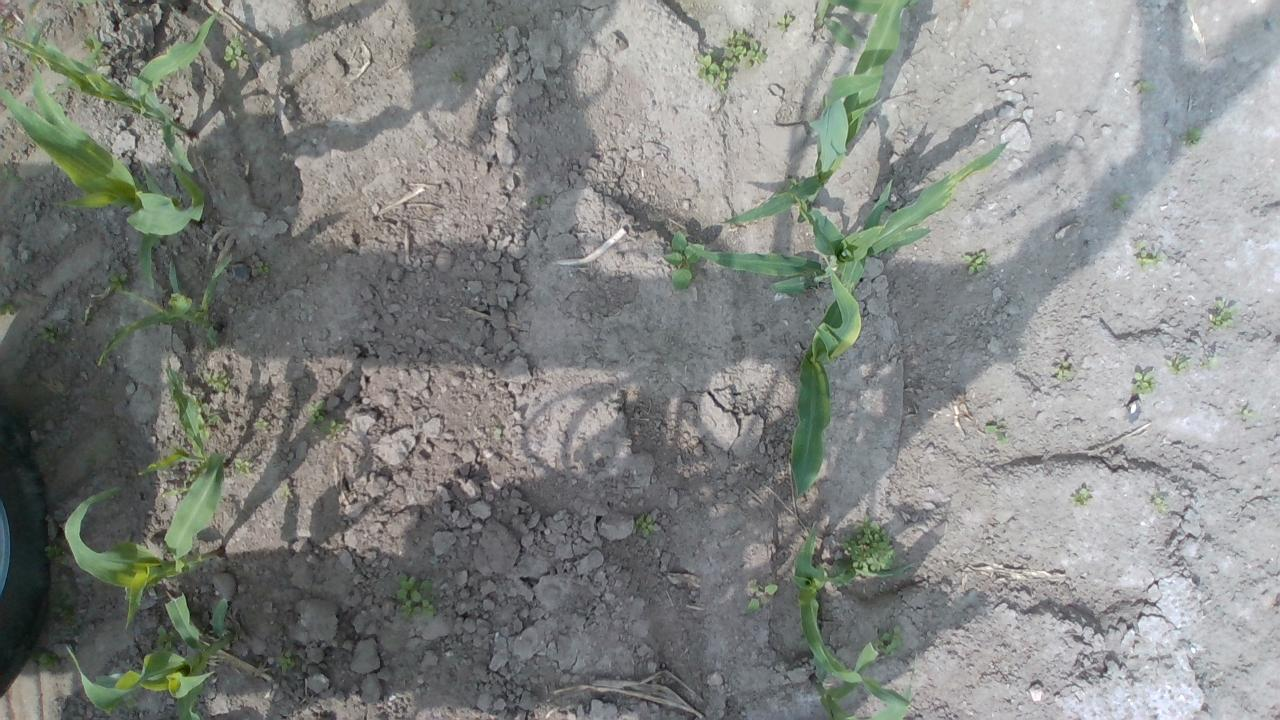Maize: (0, 20, 206, 286), (689, 139, 1008, 294), (723, 0, 916, 222), (784, 174, 898, 496), (0, 10, 218, 172), (62, 454, 222, 626), (787, 519, 913, 709), (67, 594, 232, 720), (93, 254, 235, 364), (136, 357, 229, 497), (808, 643, 911, 720), (810, 0, 924, 53)
Weeds: (694, 28, 766, 93), (841, 514, 896, 574), (660, 229, 704, 291), (395, 573, 440, 622), (306, 398, 344, 434), (222, 31, 252, 70), (1131, 239, 1167, 270), (874, 624, 902, 660), (748, 582, 778, 614), (1208, 302, 1238, 332), (82, 34, 105, 67), (275, 650, 306, 674), (156, 624, 180, 654), (962, 250, 988, 276), (632, 514, 658, 538), (196, 414, 220, 440), (1130, 371, 1156, 395), (986, 419, 1009, 446), (204, 371, 231, 392), (106, 271, 130, 293), (1165, 354, 1189, 375), (1180, 128, 1204, 148), (38, 322, 59, 344), (2, 166, 24, 187), (1071, 486, 1093, 507), (252, 257, 273, 277), (233, 458, 253, 478), (772, 13, 793, 31), (829, 560, 850, 578), (1056, 359, 1074, 380), (448, 66, 469, 84), (1152, 491, 1168, 514), (1112, 192, 1130, 212), (1134, 80, 1158, 94), (38, 654, 56, 671), (191, 395, 208, 412), (184, 467, 200, 484), (162, 488, 188, 498), (124, 693, 140, 709), (1237, 407, 1255, 421), (277, 483, 292, 498), (1208, 355, 1222, 369), (304, 30, 320, 42), (252, 418, 268, 430), (420, 37, 436, 49), (787, 176, 799, 190), (532, 195, 546, 206), (492, 25, 503, 34), (687, 2, 697, 11), (0, 18, 6, 31), (494, 427, 502, 435)
